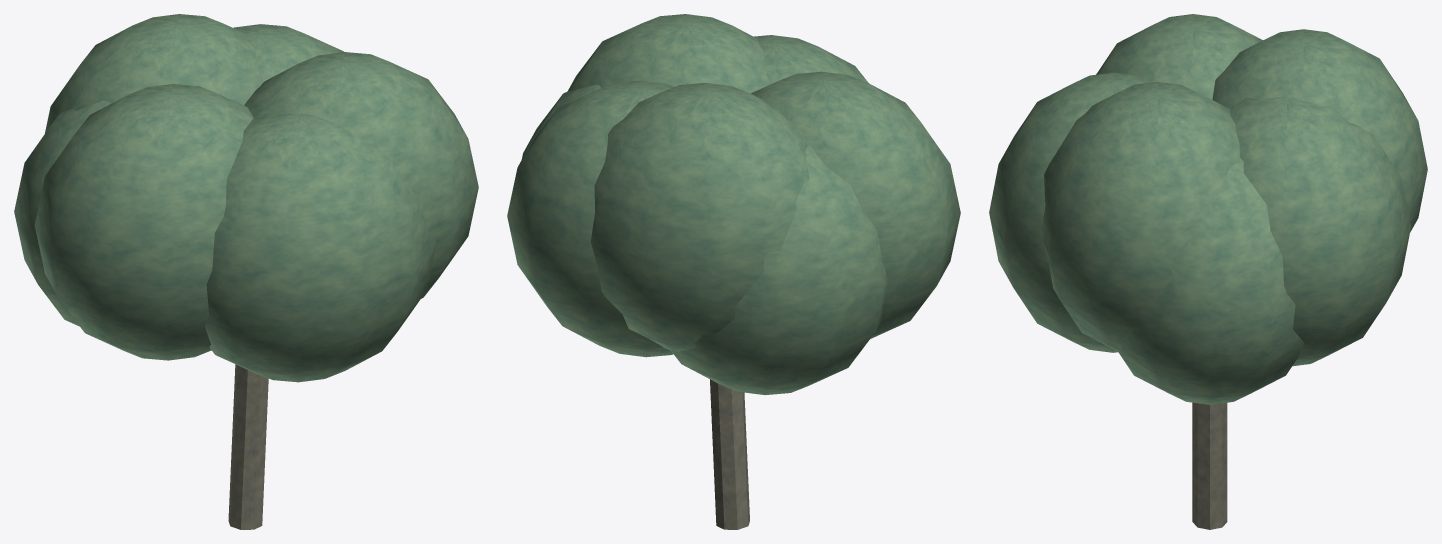
Rendered from forest-tree.glb.
The picture shows the model from 3 angles, left to right: view 1: azimuth 30°, elevation 25°; view 2: azimuth 150°, elevation 25°; view 3: azimuth 270°, elevation 25°; orthographic projection.
Visible parts, largest first — view 1: Leaf crown.042, Tree trunk.006; view 2: Leaf crown.042, Tree trunk.006; view 3: Leaf crown.042, Tree trunk.006.
Part boxes in pixels (bbox=[...]): Leaf crown.042: bbox=[14, 14, 478, 382]; Tree trunk.006: bbox=[228, 364, 268, 529]; Leaf crown.042: bbox=[507, 14, 960, 395]; Tree trunk.006: bbox=[710, 379, 749, 529]; Leaf crown.042: bbox=[989, 14, 1427, 404]; Tree trunk.006: bbox=[1192, 402, 1227, 529].
Bounding box in the file's own units: 3.25 × 3.55 × 3.01.
Materials: 2 (2 with a texture image).
